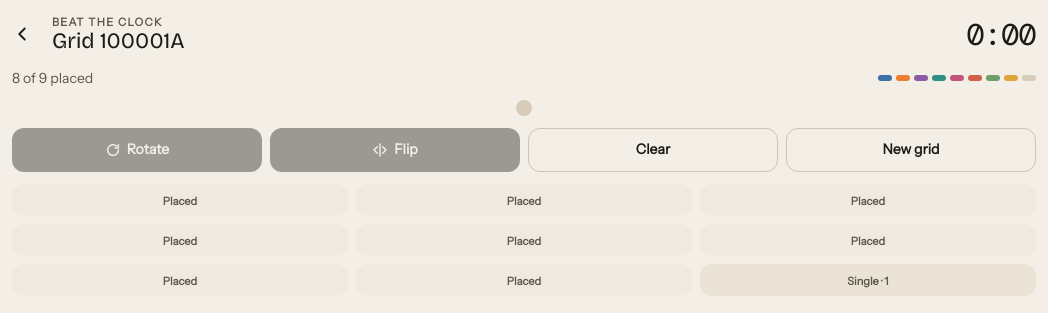
Scenario: PlayScreen › shows placed pieces as faded, disabled tiles, and Clear returns them
The width and height of the screenshot is (1048, 313).
Expected: the text "8 of 9 placed" is shown, [12, 69, 93, 87]
Expected: the button with aria-label "Tee, 4 squares, placed" is disabled, [700, 184, 1036, 216]
Click the button "Clear".
click(653, 150)  # box [528, 128, 778, 172]
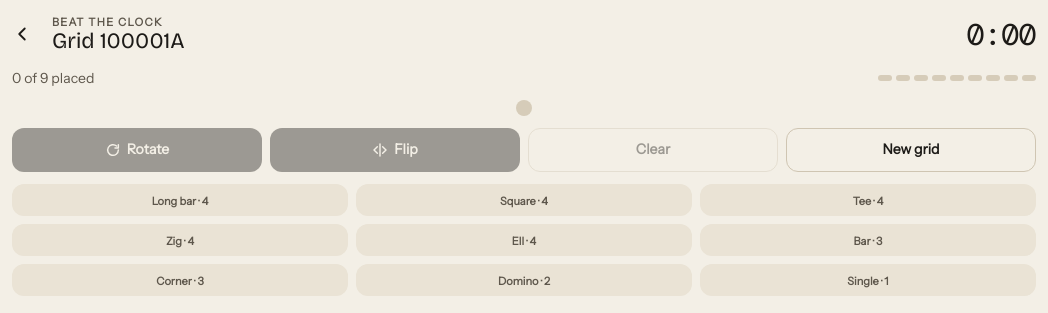
Now the text "0 of 9 placed" is shown, box [12, 69, 94, 87]
Now the button with aria-label "Tee, 4 squares" is enabled, box [700, 184, 1036, 216]
